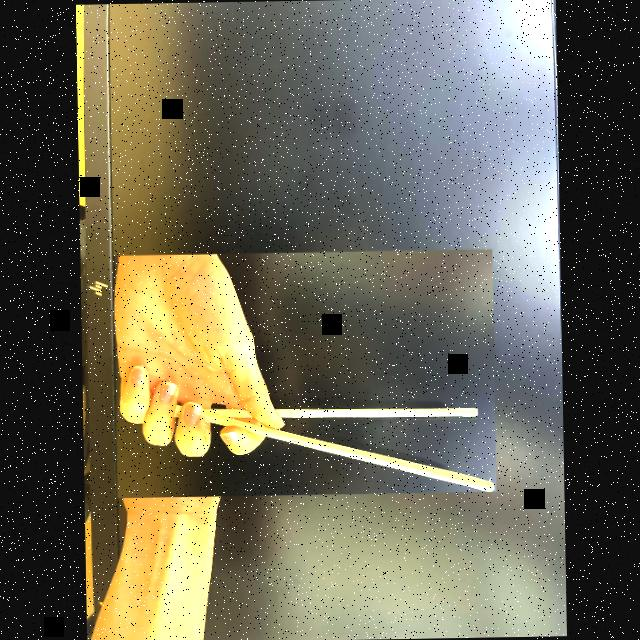stick: (111, 249, 495, 498)
